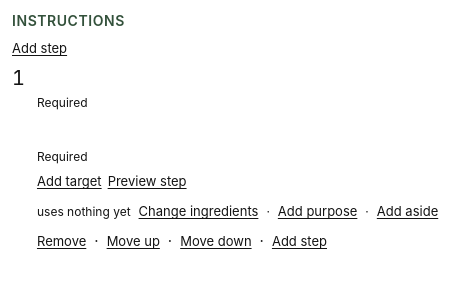
Test case: the Uses checklist (sketch 014 pC1, CONTRACT section 2) › reads Change ingredients while closed and Done while open, and the checklist has the legend Uses
Click the button "Change ingredients" at (198, 212), box x1=139 y1=200 x2=258 y2=224
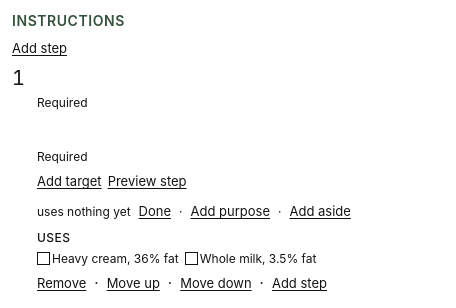
Result: the button "Done" is shown
Result: the text "Uses" is shown at x1=37 y1=230 x2=70 y2=245
Click the button "Done" at (155, 212), box x1=139 y1=200 x2=171 y2=224
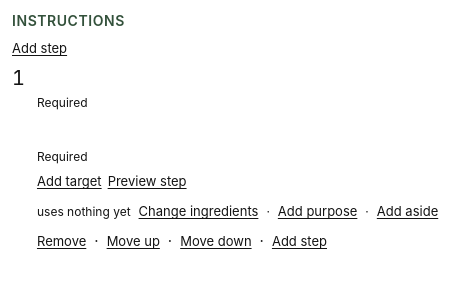
Result: the element with class "method-step__uses" is gone
